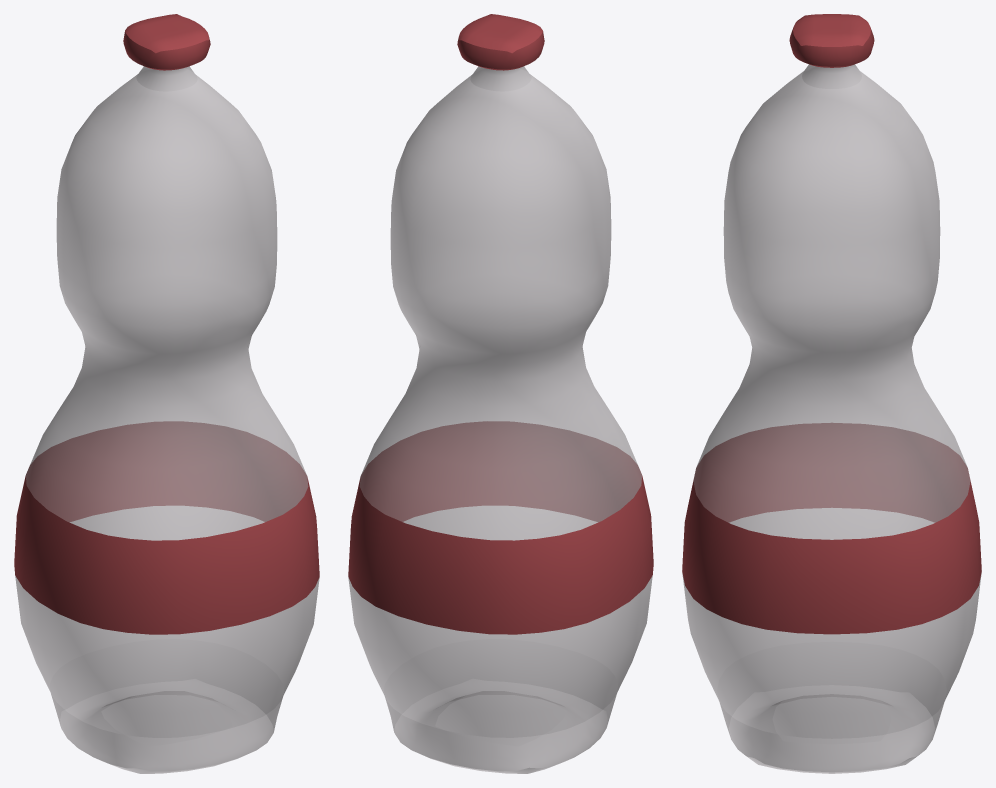
The model's file is coke.fbx.
3 views of the same model, side by side, from view 1: azimuth 30°, elevation 25°; view 2: azimuth 150°, elevation 25°; view 3: azimuth 270°, elevation 25° (orthographic).
Parts seen in each view (by area): view 1: Soda; view 2: Soda; view 3: Soda.
Boxes of the visible parts, box(x1,y1,x2,y2) form: Soda: box(14, 14, 319, 773); Soda: box(348, 14, 653, 773); Soda: box(682, 14, 981, 773).
Size of the model in its own units: 229 by 596 by 229.
